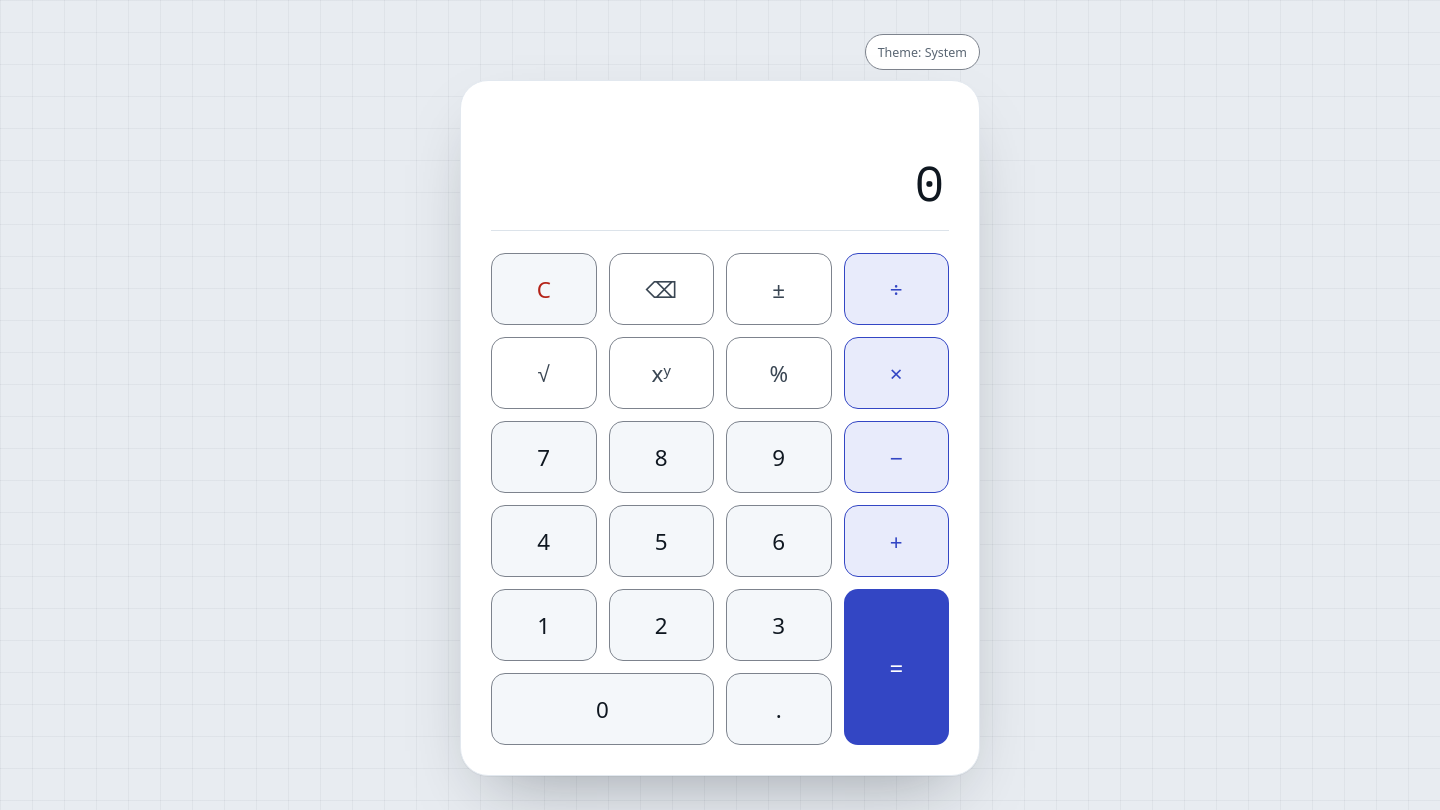
Test: app › sends one request per equals and shows the server result
Click the button "1": (544, 625) [491,589,596,661]
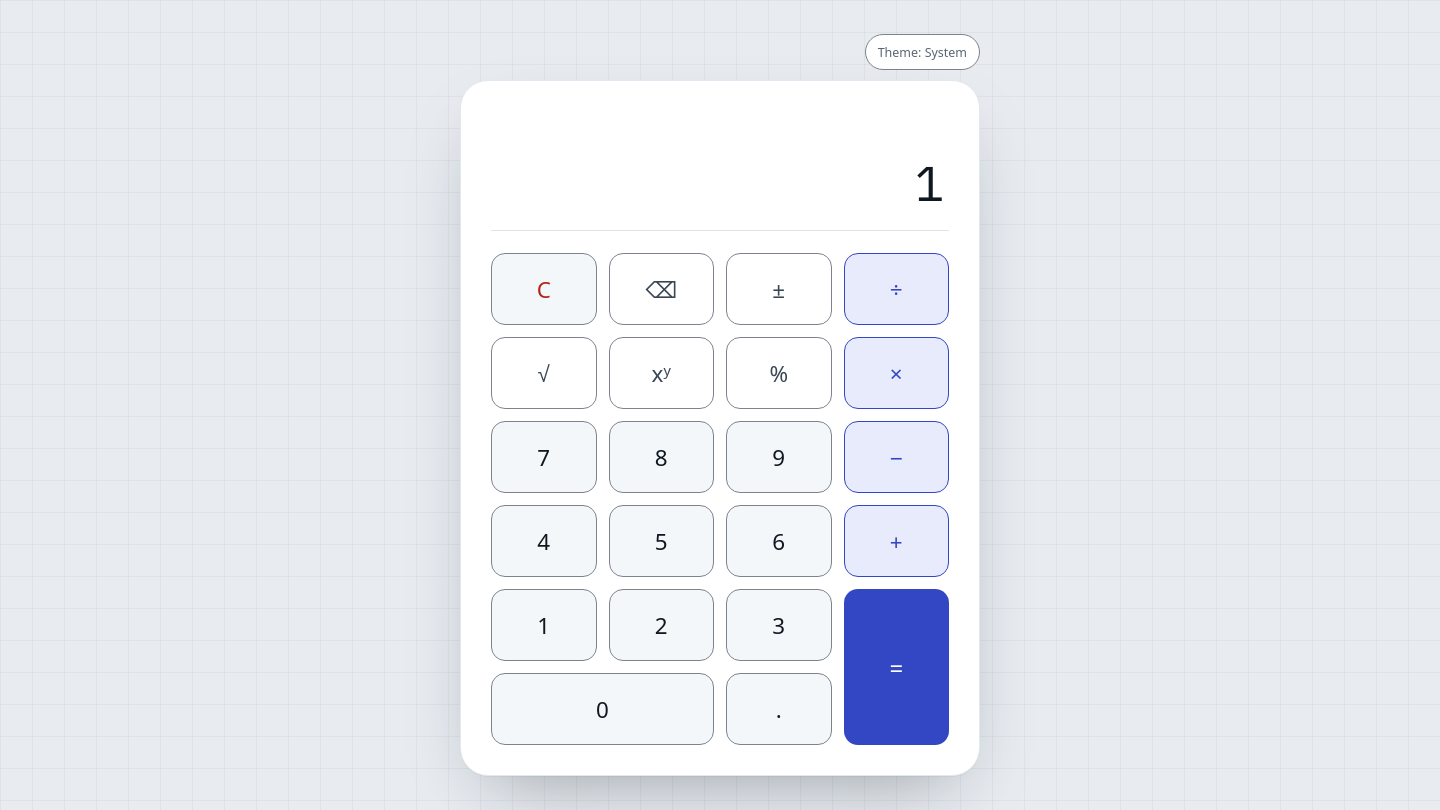
Click the button "2": (661, 625) [608,589,714,661]
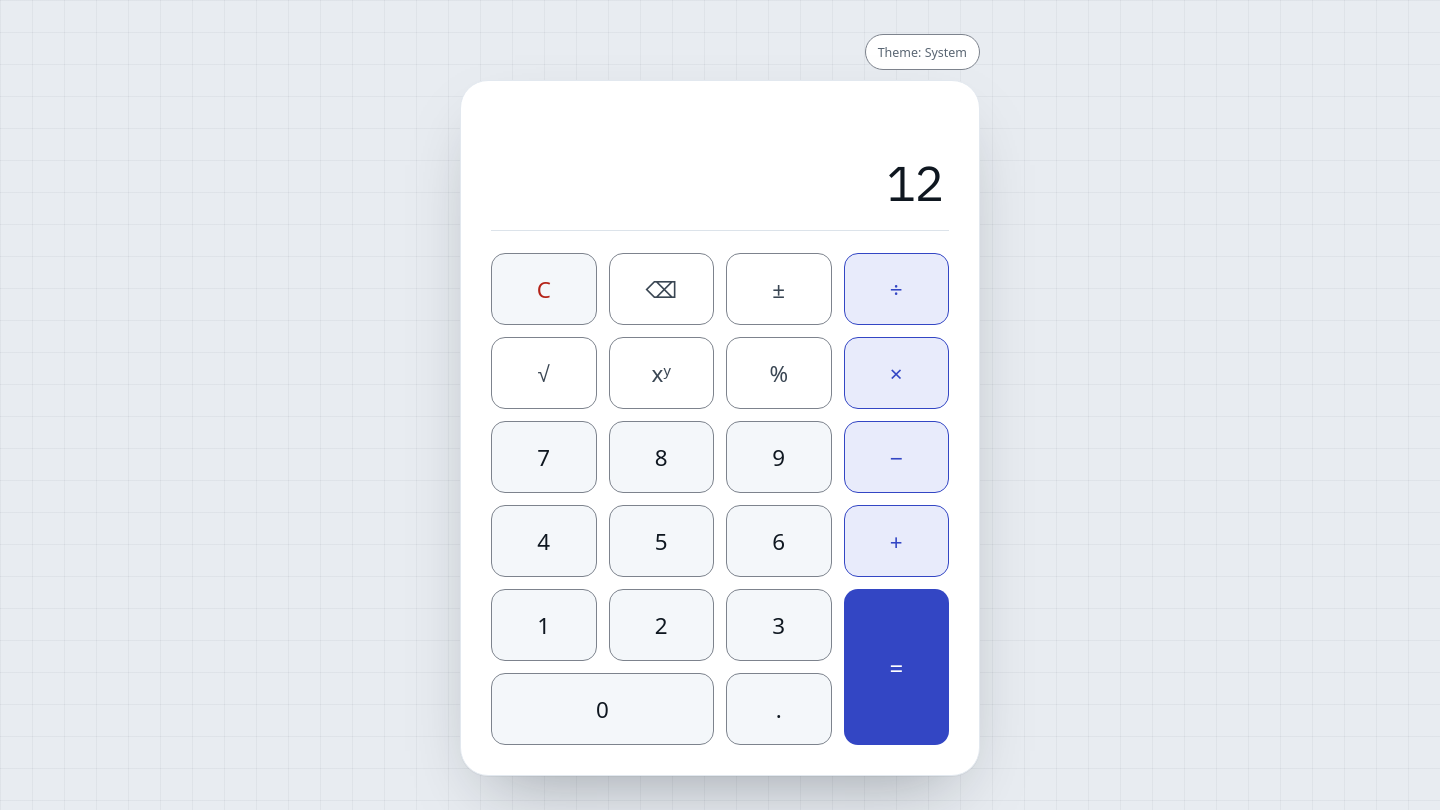
Click the button named "add": (896, 541) [844,505,949,577]
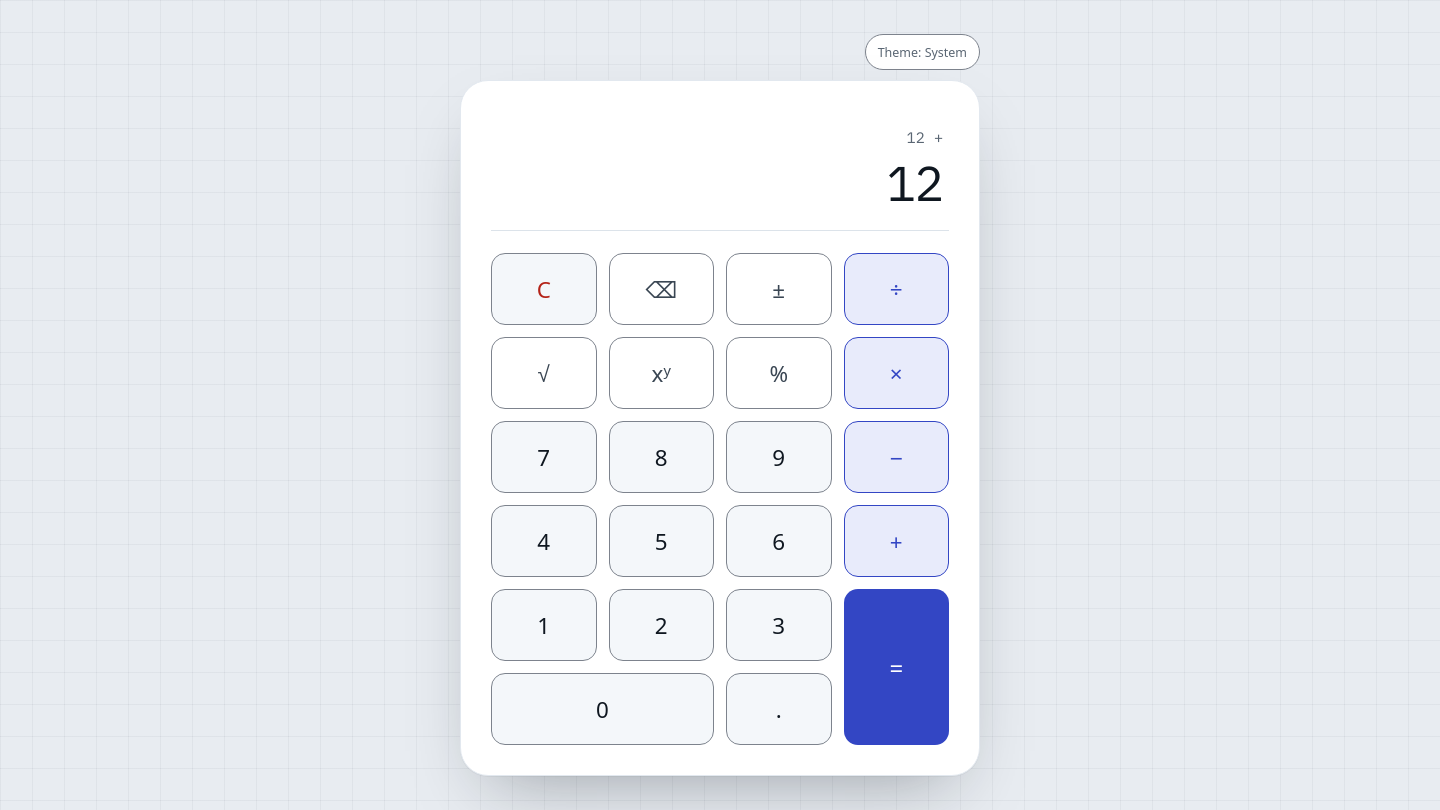
Click the button "3": (779, 625) [726,589,832,661]
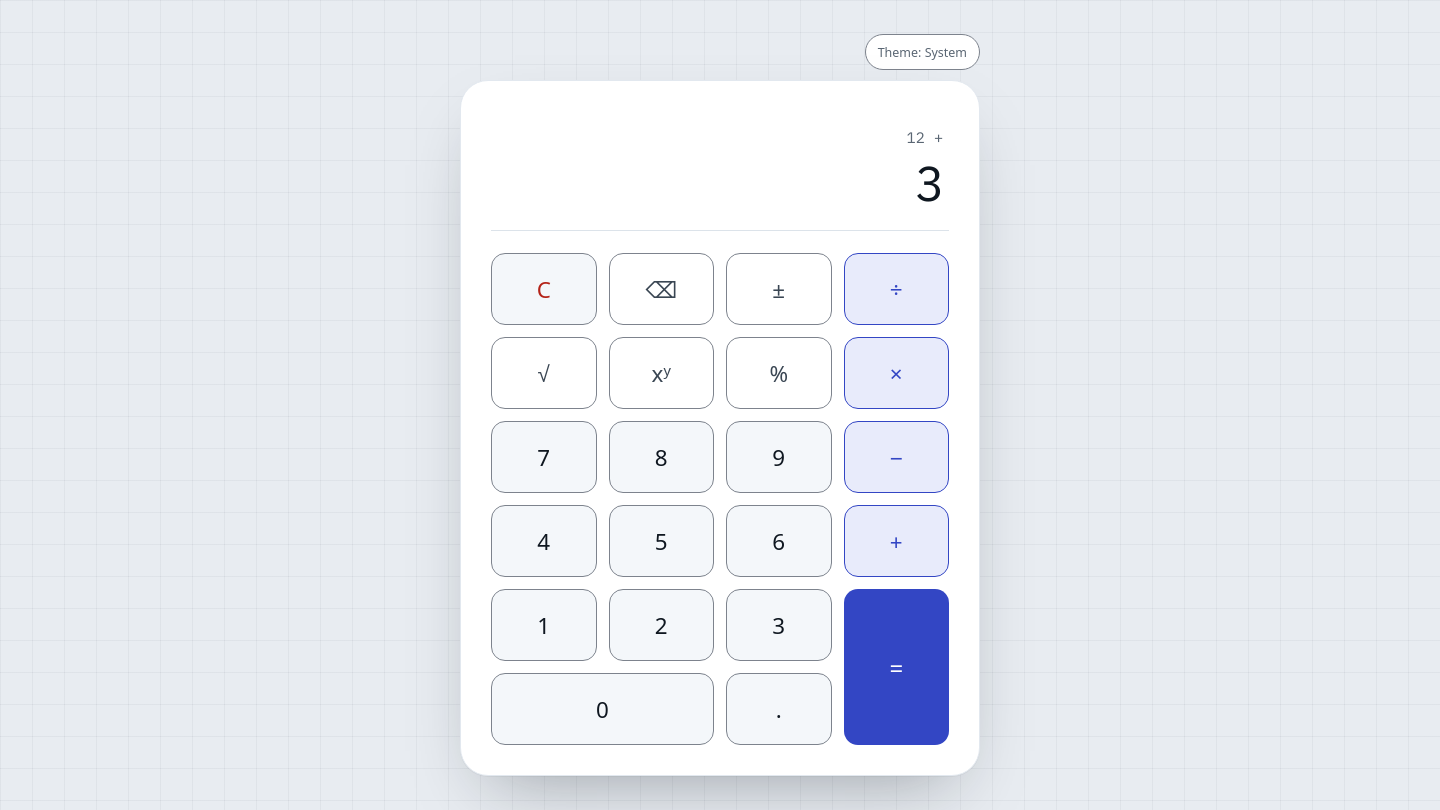
Click the button named "equals": (896, 667) [844,589,949,745]
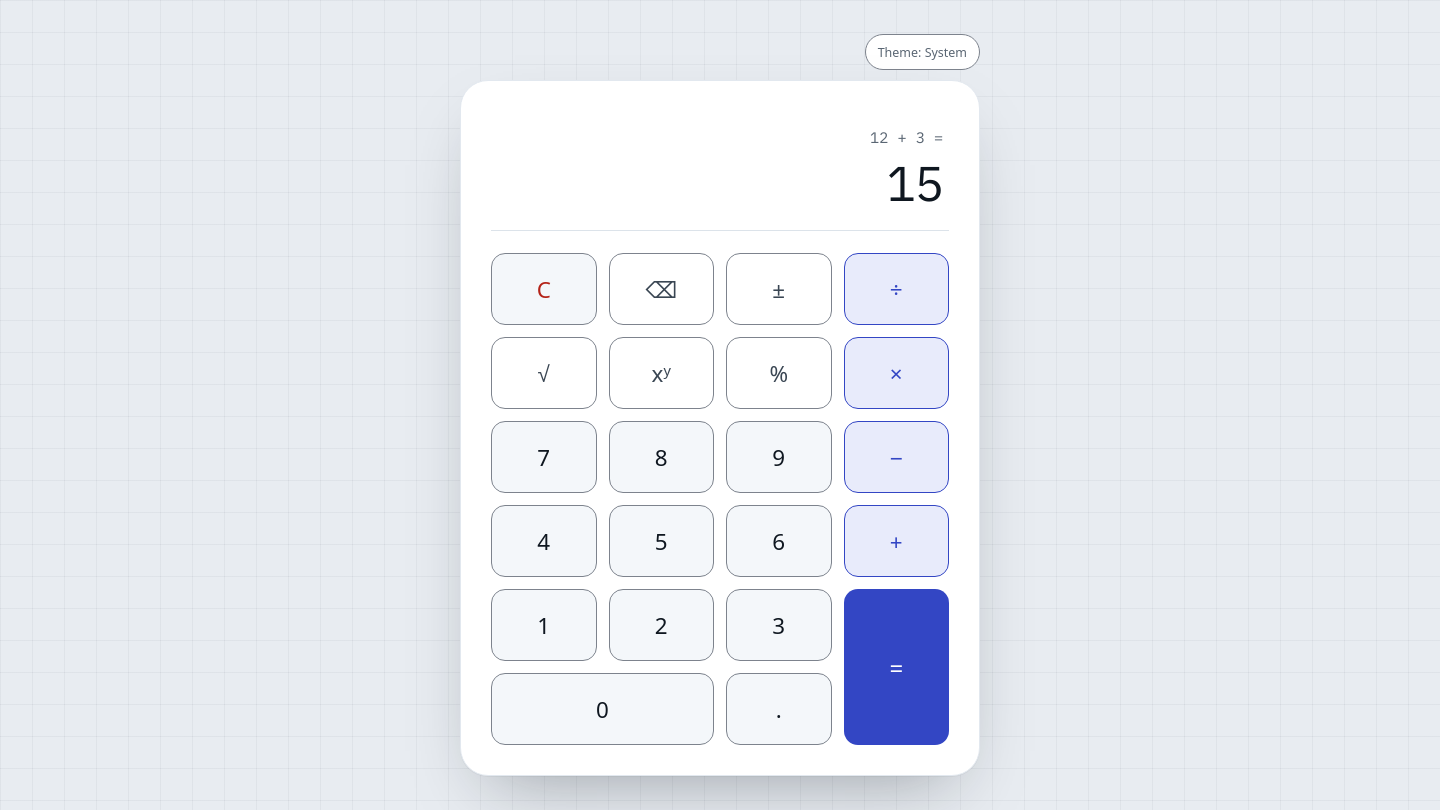
Expected: the text with test id "value" reads "15", [886,151,943,214]
Expected: the text with test id "expression" reads "12 + 3 =", [870,127,943,147]
